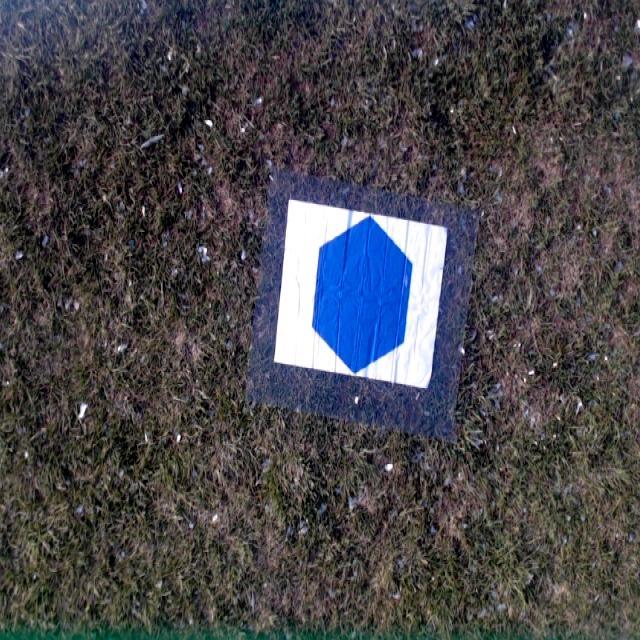blue_hexagon: (312, 215, 413, 374)
